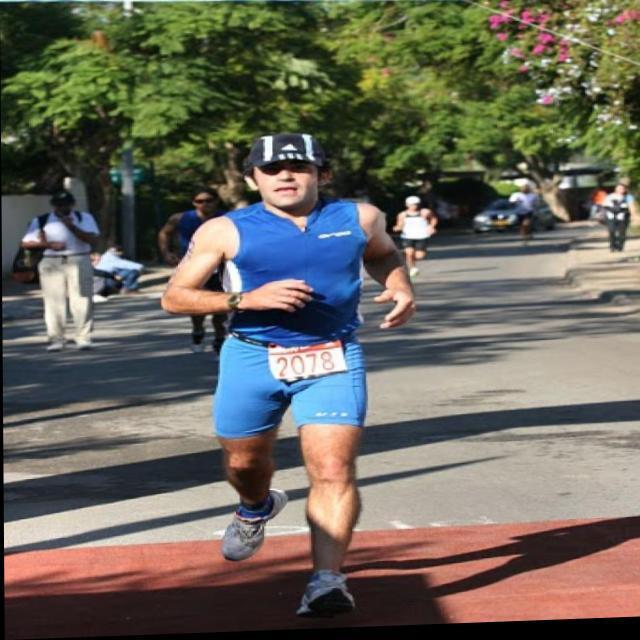dorsal: (262, 339, 359, 386)
